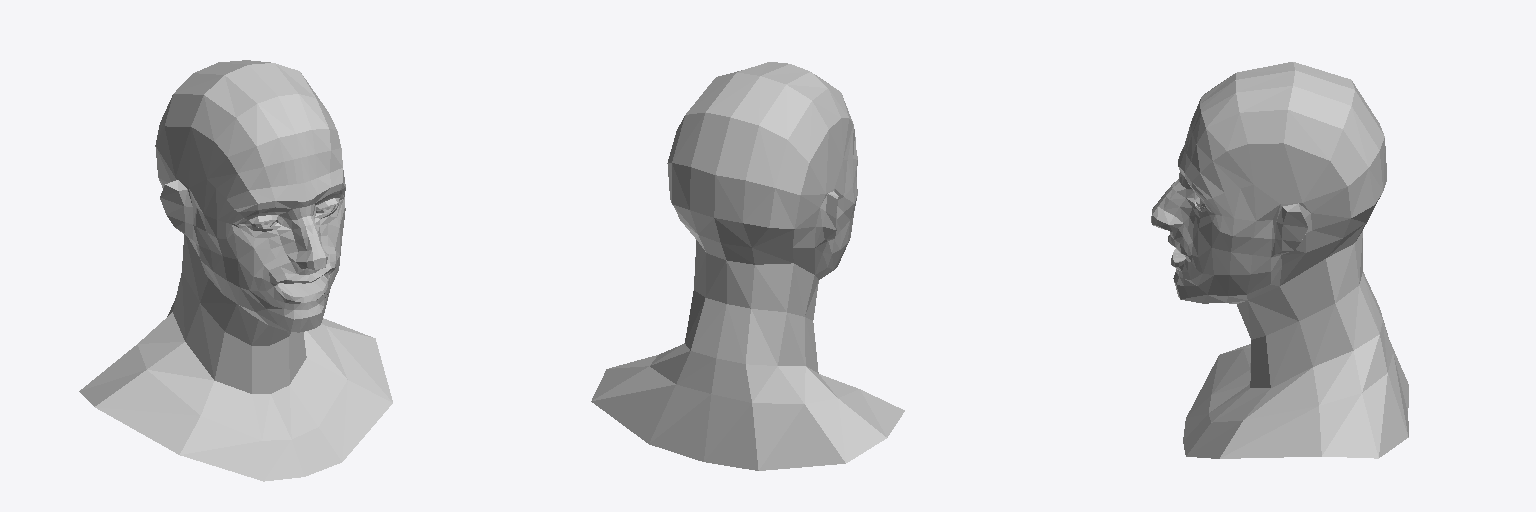
The model's file is happy.obj.
3 renders of one model, left to right at view 1: azimuth 30°, elevation 25°; view 2: azimuth 150°, elevation 25°; view 3: azimuth 270°, elevation 25°, orthographic.
Visible parts, largest first — view 1: polySurface26; view 2: polySurface26; view 3: polySurface26.
Boxes of the visible parts, <box> form: polySurface26: <box>79,60,392,481</box>; polySurface26: <box>591,62,904,470</box>; polySurface26: <box>1151,62,1408,458</box>.
Bounding box in the file's own units: 7.84 × 9.9 × 6.21.